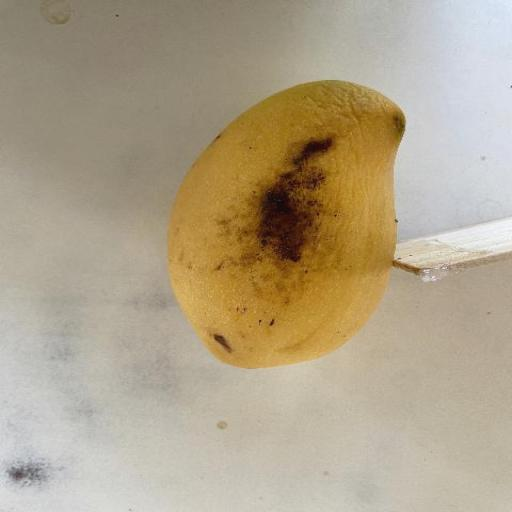mango-overripe: (159, 79, 438, 371)
